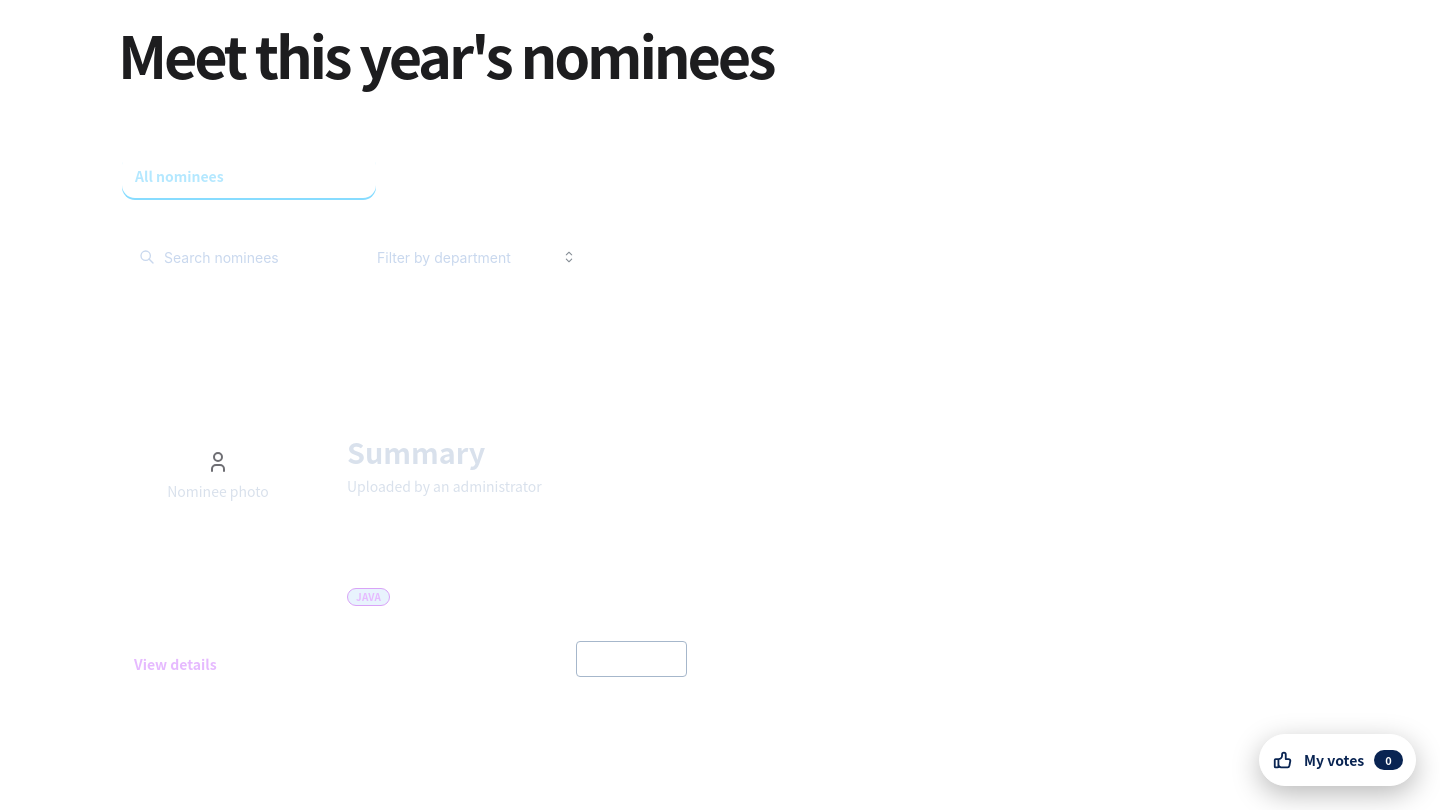
Test: ProjectShowcase › shows nomination details without loading or offering comments
Click the button "View details". click: (175, 664)
box: [129, 651, 222, 677]
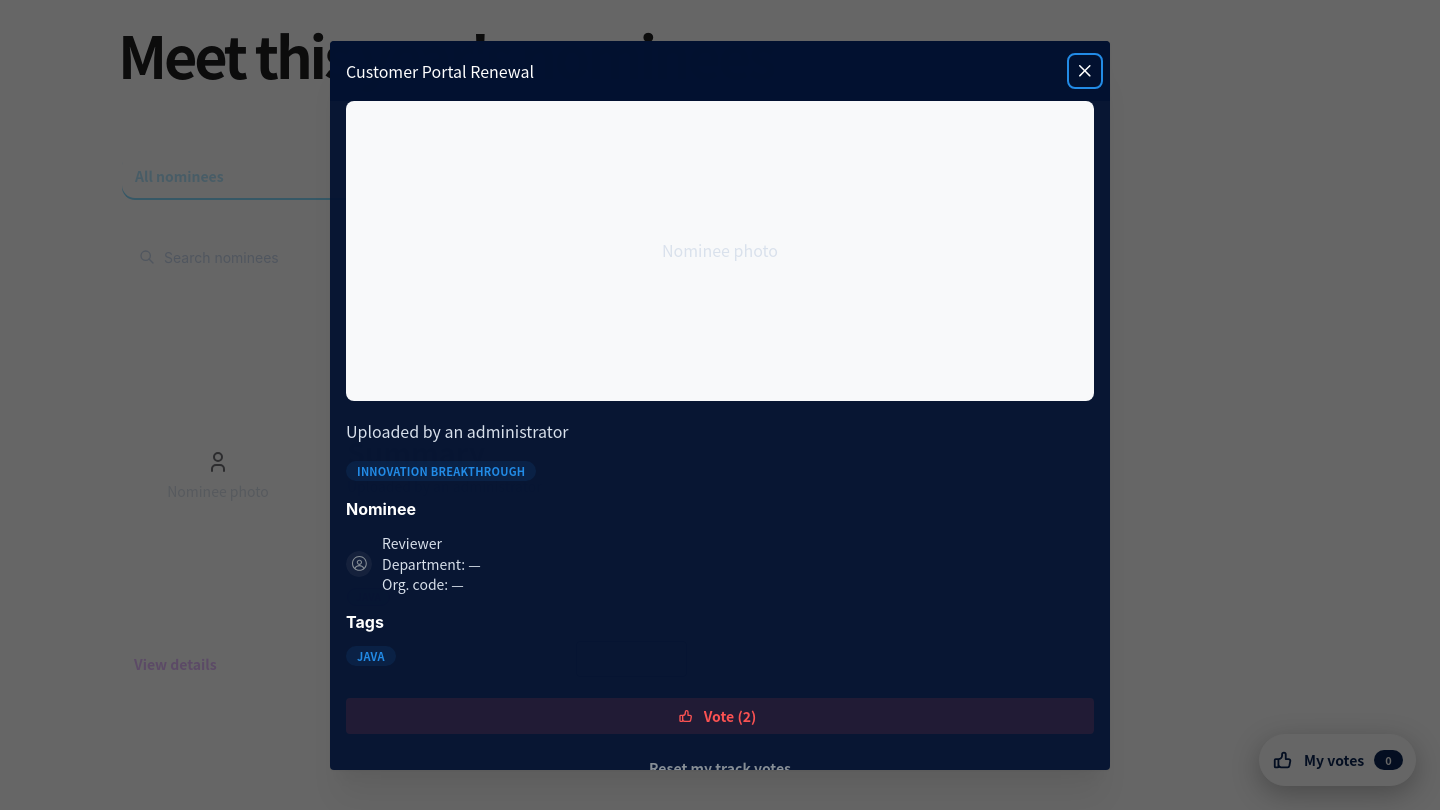
expect the heading "Nominee" is shown: met, box [346, 499, 416, 519]
expect the heading "Tags" is shown: met, box [346, 612, 384, 632]
